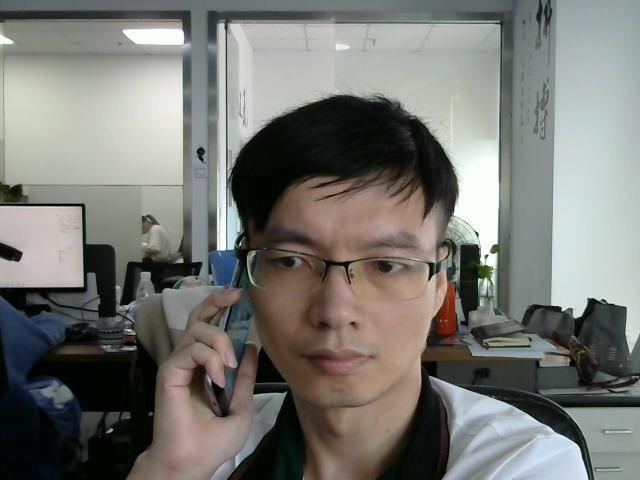hand: (160, 287, 256, 451)
